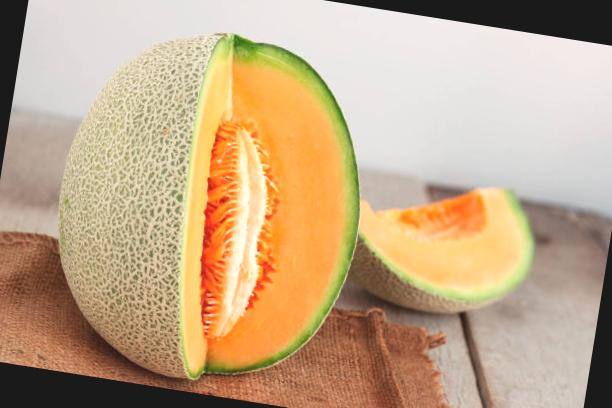Melon Ripe: (35, 9, 388, 402), (347, 164, 545, 329)
